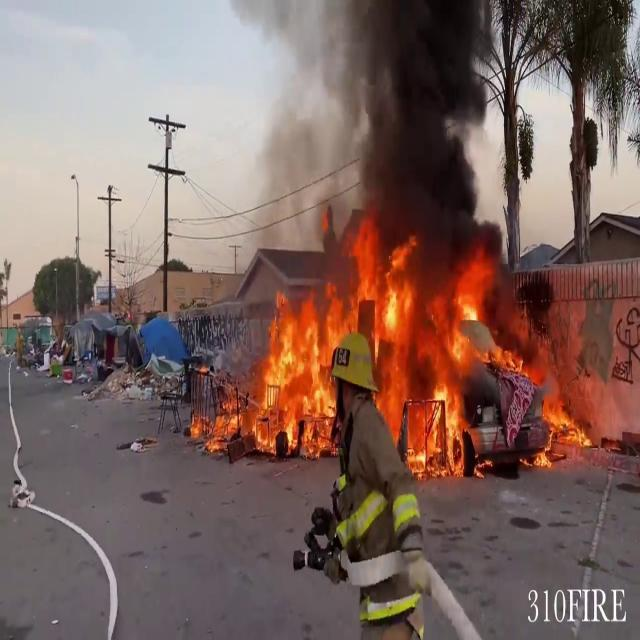Fire: (214, 226, 622, 474)
Smoke: (229, 0, 507, 236), (317, 0, 506, 229)
